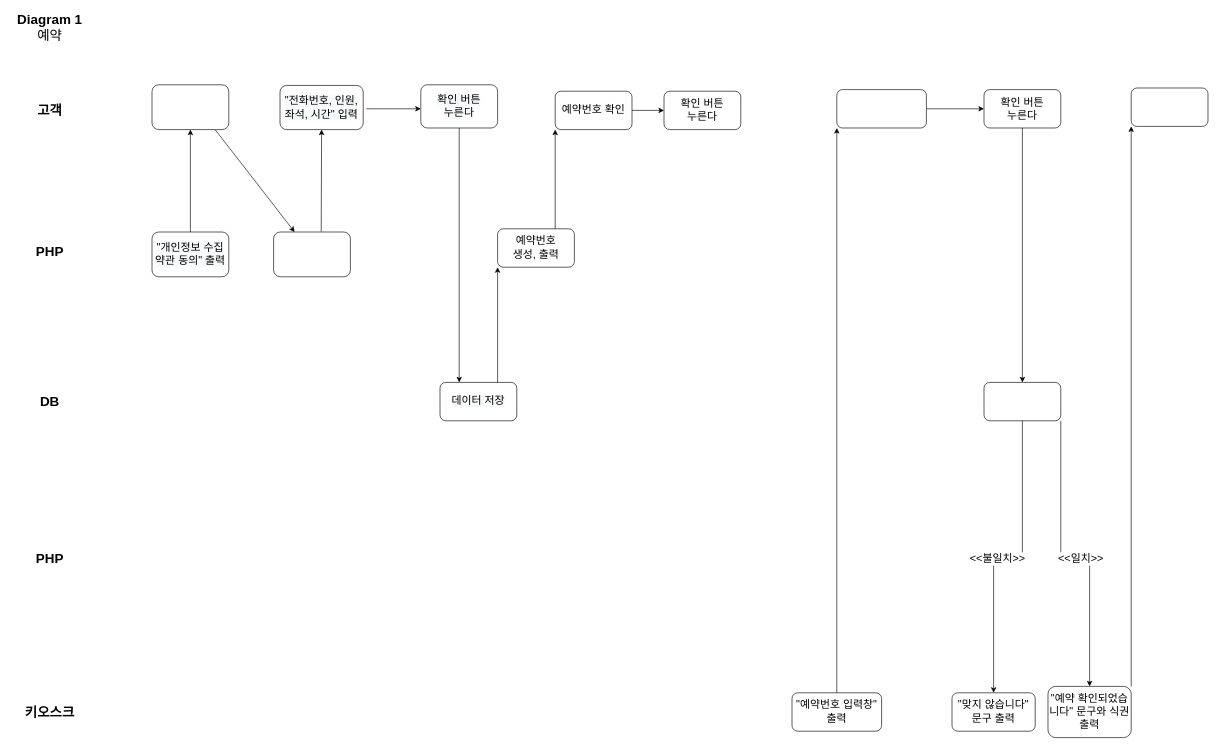
Image size: 1219x749. Some labels were removed from this diagram. Here are the shapes that lost their labels. From the top down, the box of each, then its label:
(151, 84, 229, 130): 개인정보 수집 동의
(836, 89, 926, 128): 예약 번호 키오스크에 입력
(1131, 87, 1208, 126): 식권 수령
(273, 231, 350, 277): "예약 정보 입력 화면" 출력
(983, 382, 1061, 421): 일치 여부 확인
